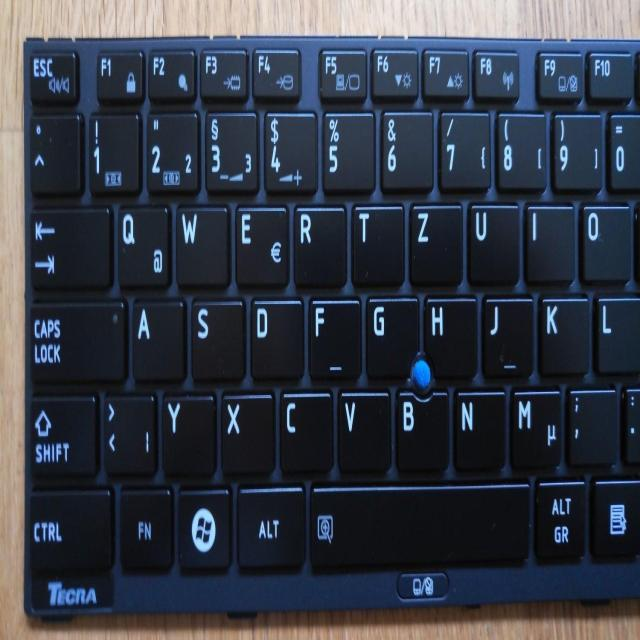0: (607, 109, 637, 190)
1: (86, 108, 140, 195)
2: (144, 107, 199, 194)
3: (202, 107, 258, 193)
4: (261, 108, 317, 195)
5: (320, 108, 375, 192)
6: (378, 105, 433, 191)
7: (437, 106, 491, 190)
8: (494, 108, 546, 190)
9: (550, 109, 602, 191)
a: (130, 296, 184, 381)
alt-left: (234, 481, 306, 568)
altgr-right: (533, 476, 587, 561)
b: (393, 386, 449, 472)
c: (278, 388, 333, 473)
caret: (27, 109, 79, 194)
comma: (565, 384, 617, 465)
d: (248, 295, 303, 379)
e: (232, 202, 289, 287)
f: (307, 295, 361, 382)
g: (364, 292, 418, 378)
h: (422, 292, 477, 377)
i: (523, 199, 575, 282)
j: (481, 292, 534, 380)
k: (538, 292, 589, 376)
keyboard: (2, 20, 640, 625)
l: (595, 292, 637, 374)
less: (102, 390, 156, 476)
m: (508, 384, 562, 471)
n: (451, 386, 505, 471)
o: (578, 199, 631, 281)
point: (626, 388, 639, 469)
q: (115, 202, 169, 289)
r: (291, 201, 346, 287)
s: (188, 295, 244, 381)
shift-left: (27, 392, 97, 483)
shift-lock: (26, 296, 125, 384)
space: (309, 479, 529, 566)
strg-left: (25, 489, 114, 576)
t: (350, 200, 405, 285)
tab: (26, 203, 110, 290)
u: (465, 198, 520, 284)
v: (336, 387, 391, 473)
w: (172, 200, 229, 287)
x: (218, 388, 274, 475)
y: (160, 390, 215, 475)
z: (407, 199, 463, 286)
